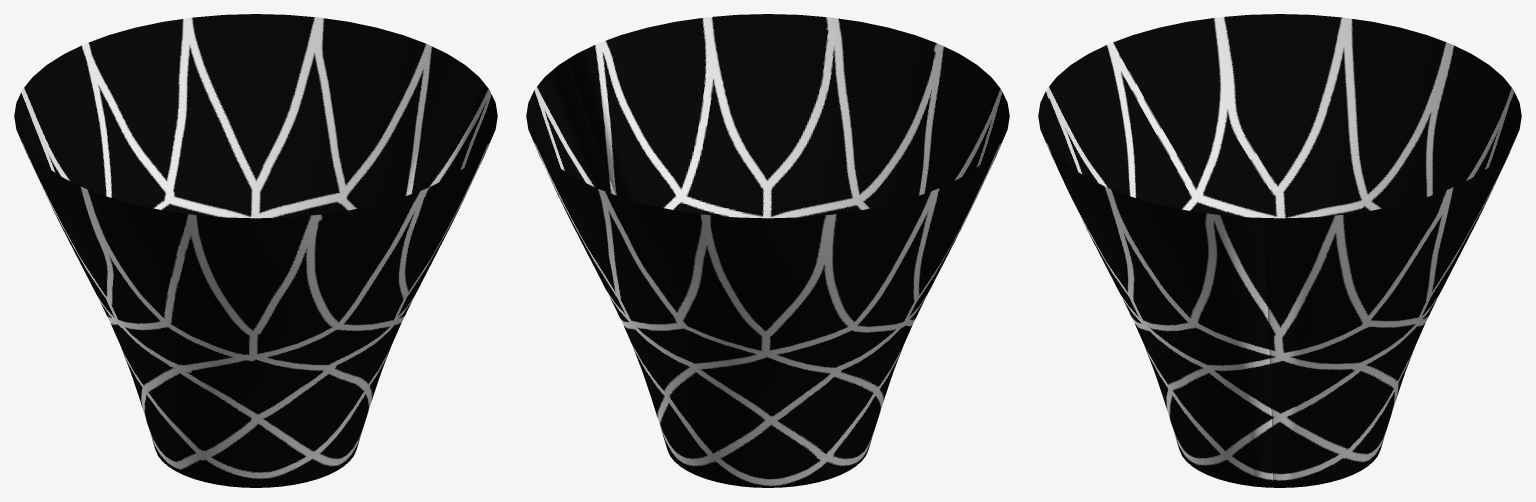
The model's file is Net.obj.
3 renders of one model, left to right at view 1: azimuth 30°, elevation 25°; view 2: azimuth 150°, elevation 25°; view 3: azimuth 270°, elevation 25°, orthographic.
Parts seen in each view (by area): view 1: Net_noimp; view 2: Net_noimp; view 3: Net_noimp.
Boxes of the visible parts, bbox=[...] form: Net_noimp: bbox=[14, 14, 497, 487]; Net_noimp: bbox=[526, 14, 1009, 487]; Net_noimp: bbox=[1038, 14, 1521, 487].
Size of the model in its own units: 0.88 by 0.6609 by 0.88.
1 material, 1 textured.
